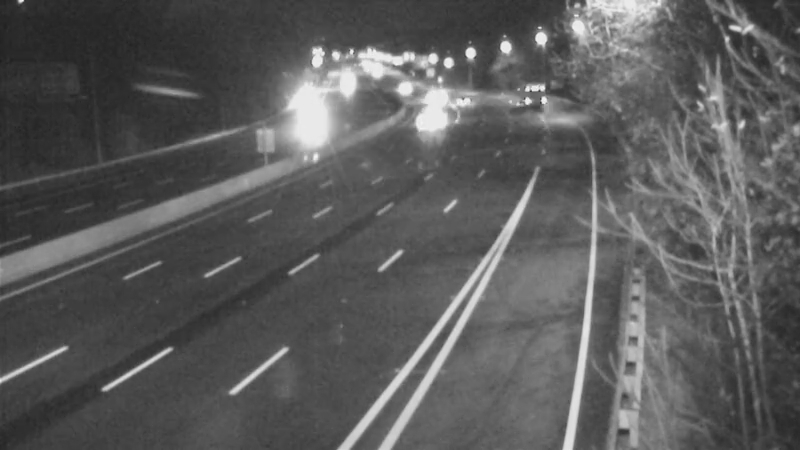vehicle: (373, 60, 423, 110), (504, 68, 554, 118), (407, 71, 457, 121), (437, 74, 487, 124), (409, 97, 459, 147)
